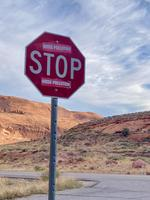Stop: (18, 21, 99, 112)
